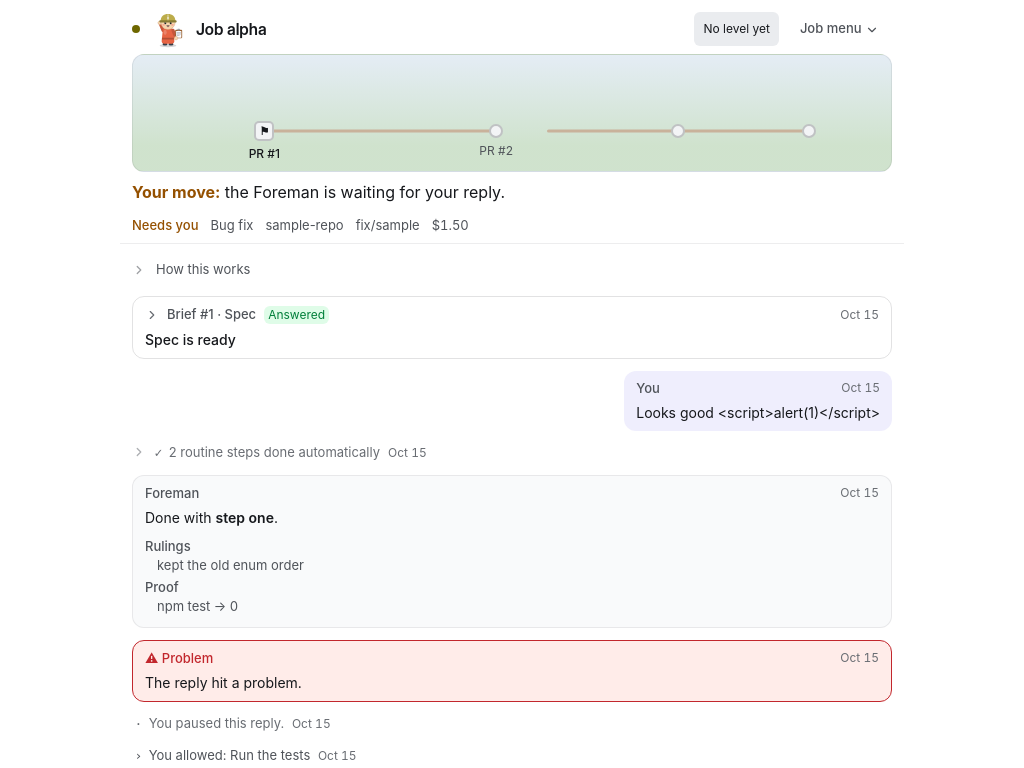
it: Foreman pane › opens the brief waiting for you in full, with its detail folded; answered briefs show their headline
Expected: the text "Spec is ready" is shown, 145,330 -> 236,348
Expected: the text "Answered" is shown, 264,306 -> 329,324
Click the button "Brief #1 · Spec Answered Oct 15" at (212, 314), box 145,300 -> 879,330
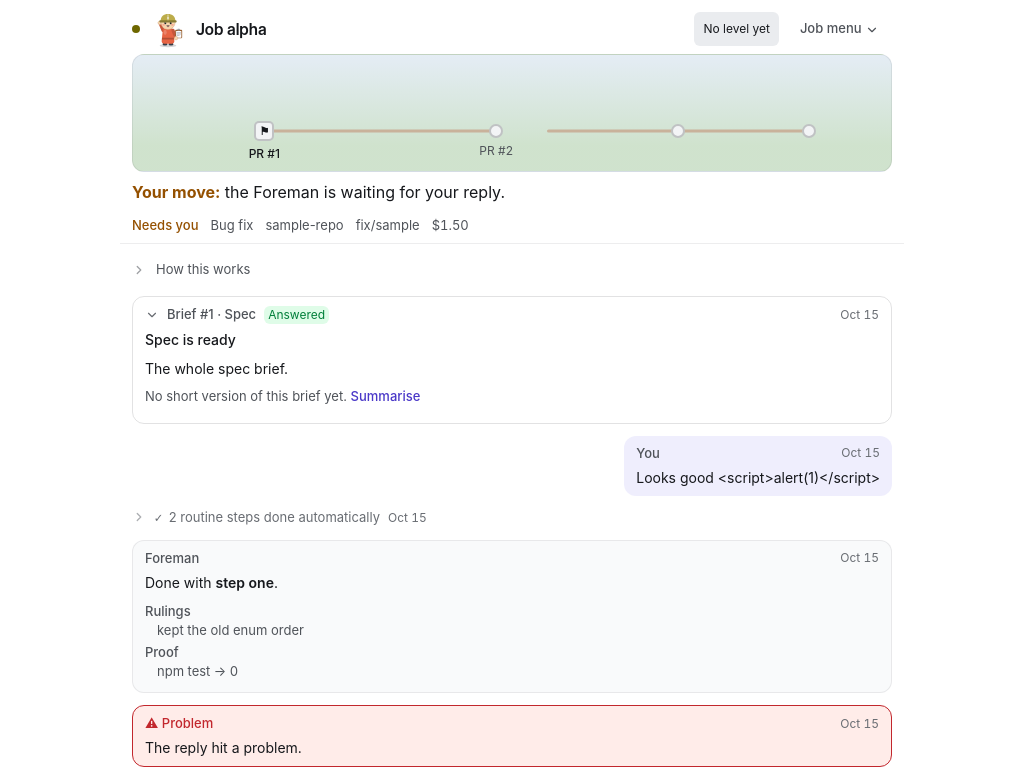
Expected: the text "The whole spec brief." is shown, 145,360 -> 288,376
